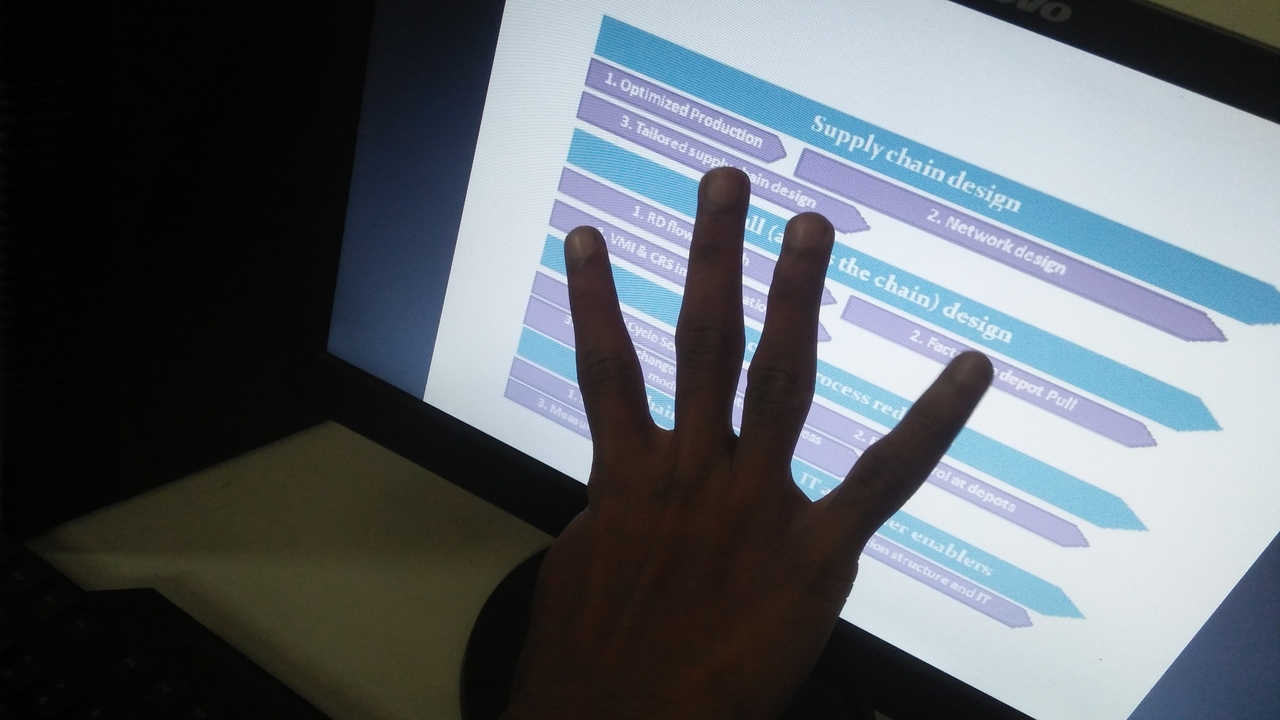fingertip: (934, 344, 1006, 404), (776, 200, 840, 266), (692, 162, 756, 222), (554, 216, 616, 272)
